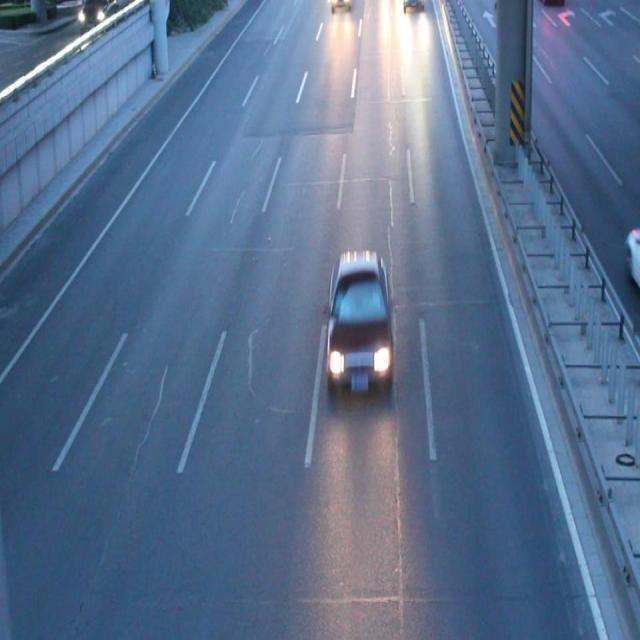car: (325, 253, 392, 398)
